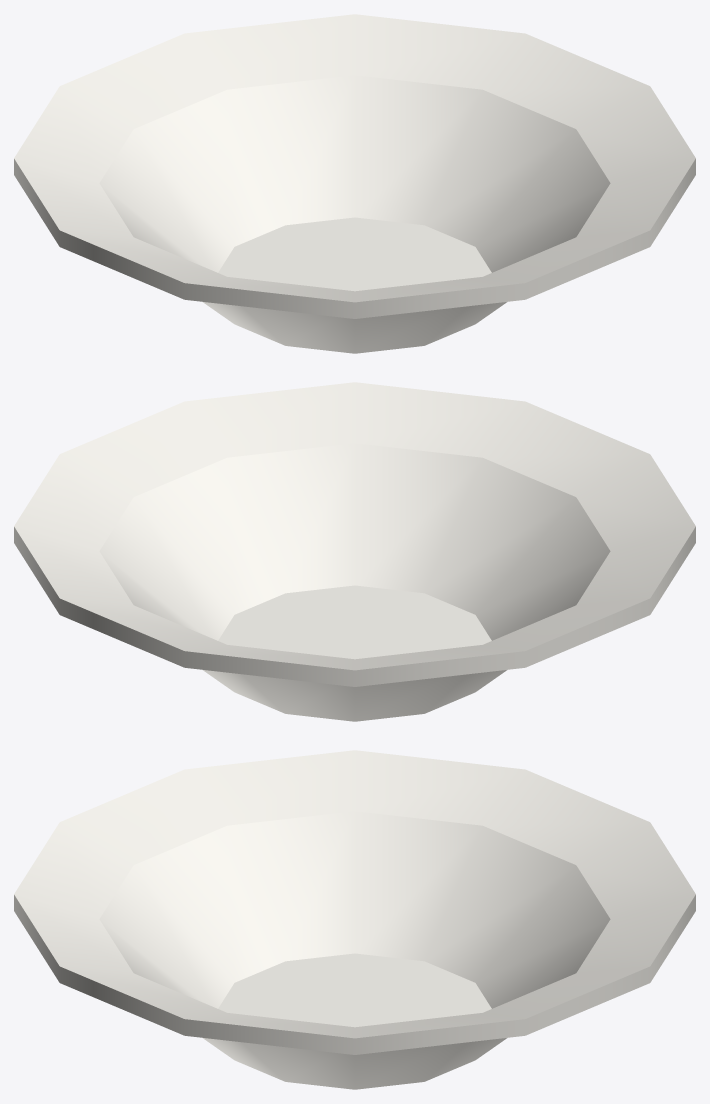
Rendered from SM_Bowl_Soup_01.fbx.
The picture shows the model from 3 angles, top to bottom: view 1: azimuth 30°, elevation 25°; view 2: azimuth 150°, elevation 25°; view 3: azimuth 270°, elevation 25°; orthographic projection.
Visible parts, largest first — view 1: SM_Bowl_Soup_01; view 2: SM_Bowl_Soup_01; view 3: SM_Bowl_Soup_01.
Boxes of the visible parts, left/top/right/bottom form: SM_Bowl_Soup_01: left=14, top=14, right=695, bottom=353; SM_Bowl_Soup_01: left=14, top=382, right=695, bottom=721; SM_Bowl_Soup_01: left=14, top=750, right=695, bottom=1089.
Size of the model in its own units: 20.66 by 4.57 by 20.66.
